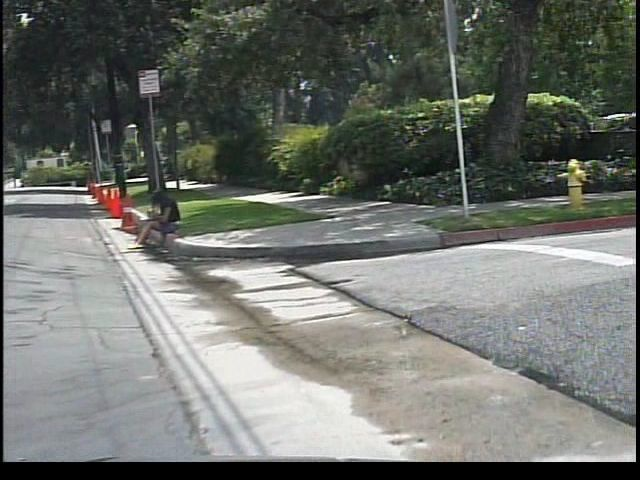person: (133, 188, 192, 251)
